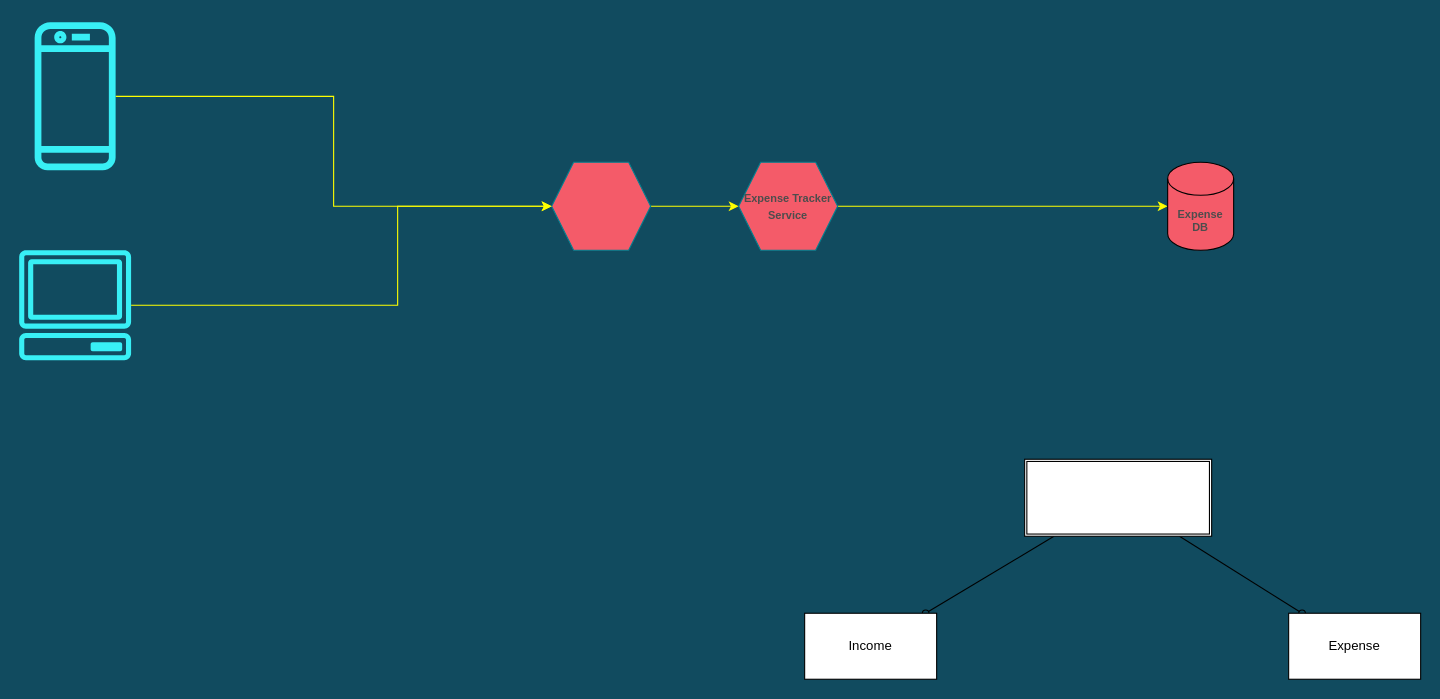
The diagram is 1440 pixels wide and 699 high, and some of its shapes have lost their labels. The shapes that lost their labels are listed below. From the top down, each one's centre as x and y in pixels, then its label:
point (601, 205): Authentication Service
point (1118, 497): Balance
